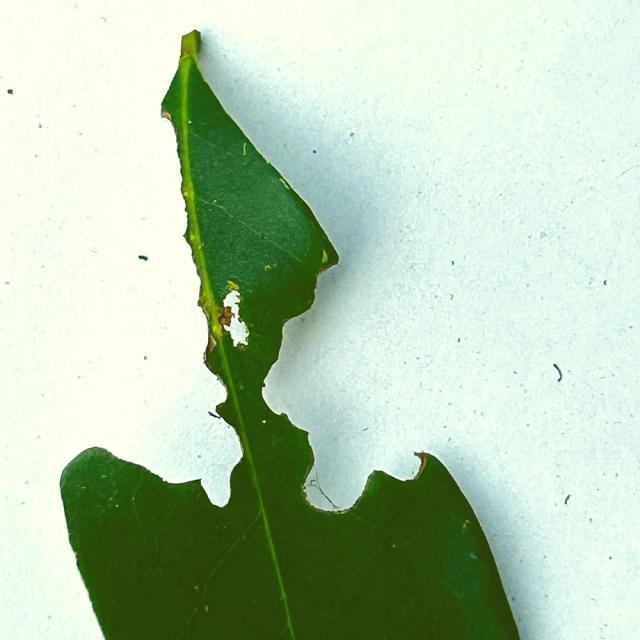Deficiency Leaf: (49, 118, 224, 479), (262, 259, 429, 510)
Lychee: (188, 62, 519, 639), (60, 447, 288, 639)
